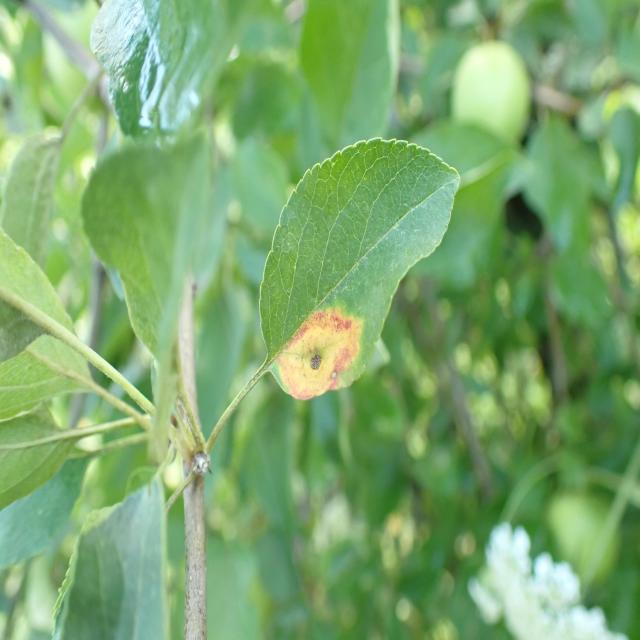rust: (258, 137, 462, 401)
